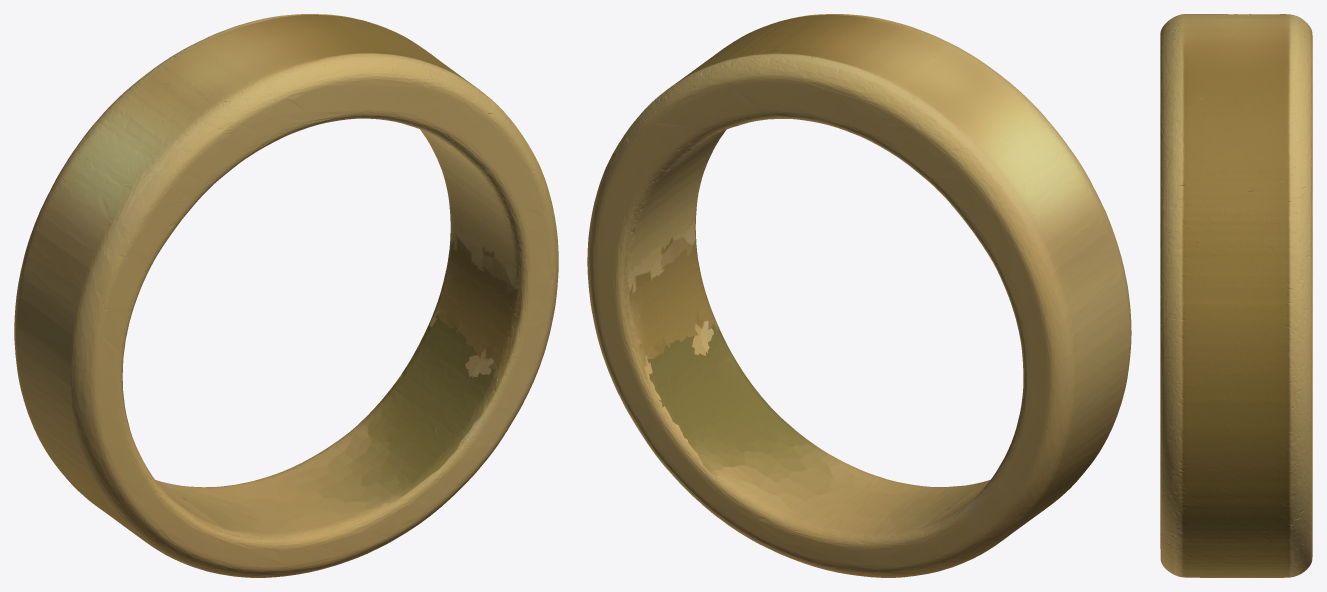
The model's file is ring_golden.glb.
3 renders of one model, left to right at view 1: azimuth 30°, elevation 25°; view 2: azimuth 150°, elevation 25°; view 3: azimuth 270°, elevation 25°, orthographic.
Visible parts, largest first — view 1: world; view 2: world; view 3: world.
Boxes of the visible parts, x1,y1,x2,y2 form: world: (14, 14, 558, 577); world: (587, 14, 1131, 577); world: (1160, 14, 1312, 577).
Bounding box in the file's own units: 2 × 1.99 × 0.5421.
Materials: 1 (1 with a texture image).
